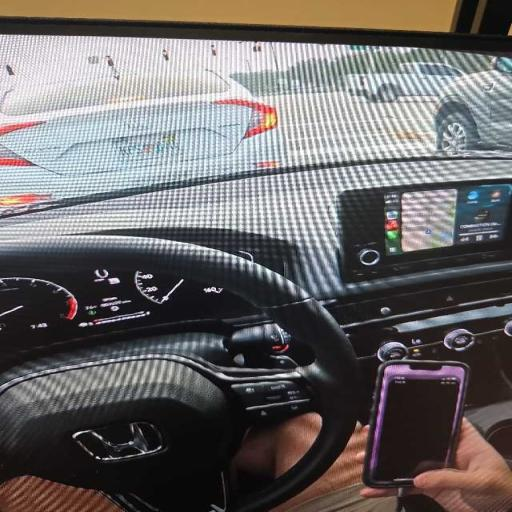car: (0, 91, 511, 511), (0, 69, 283, 214), (435, 57, 511, 153), (346, 62, 463, 102)
lane: (263, 92, 435, 160)
person: (273, 425, 396, 511), (414, 419, 511, 511), (106, 56, 119, 79), (5, 64, 15, 76), (163, 49, 169, 61), (211, 44, 217, 56)
